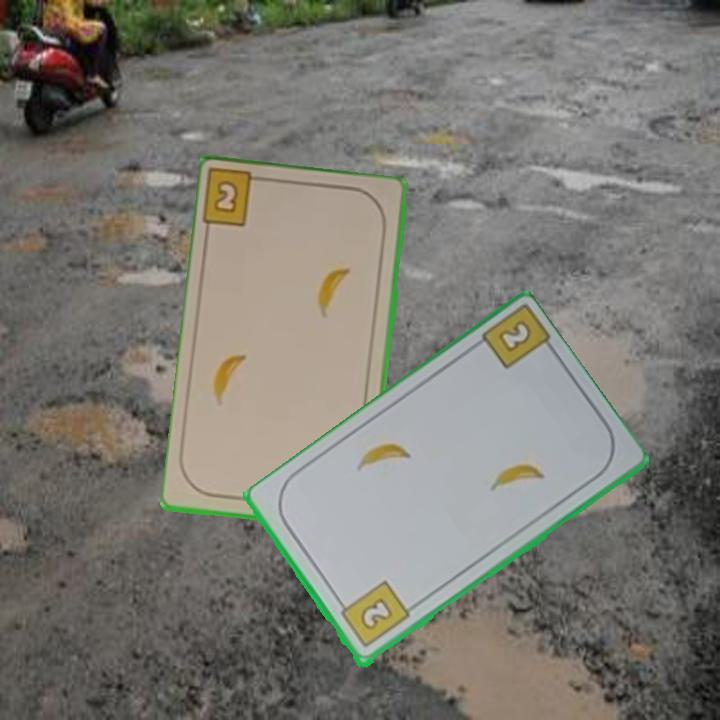2b: (334, 578, 413, 651), (201, 168, 272, 231), (494, 317, 535, 356)
